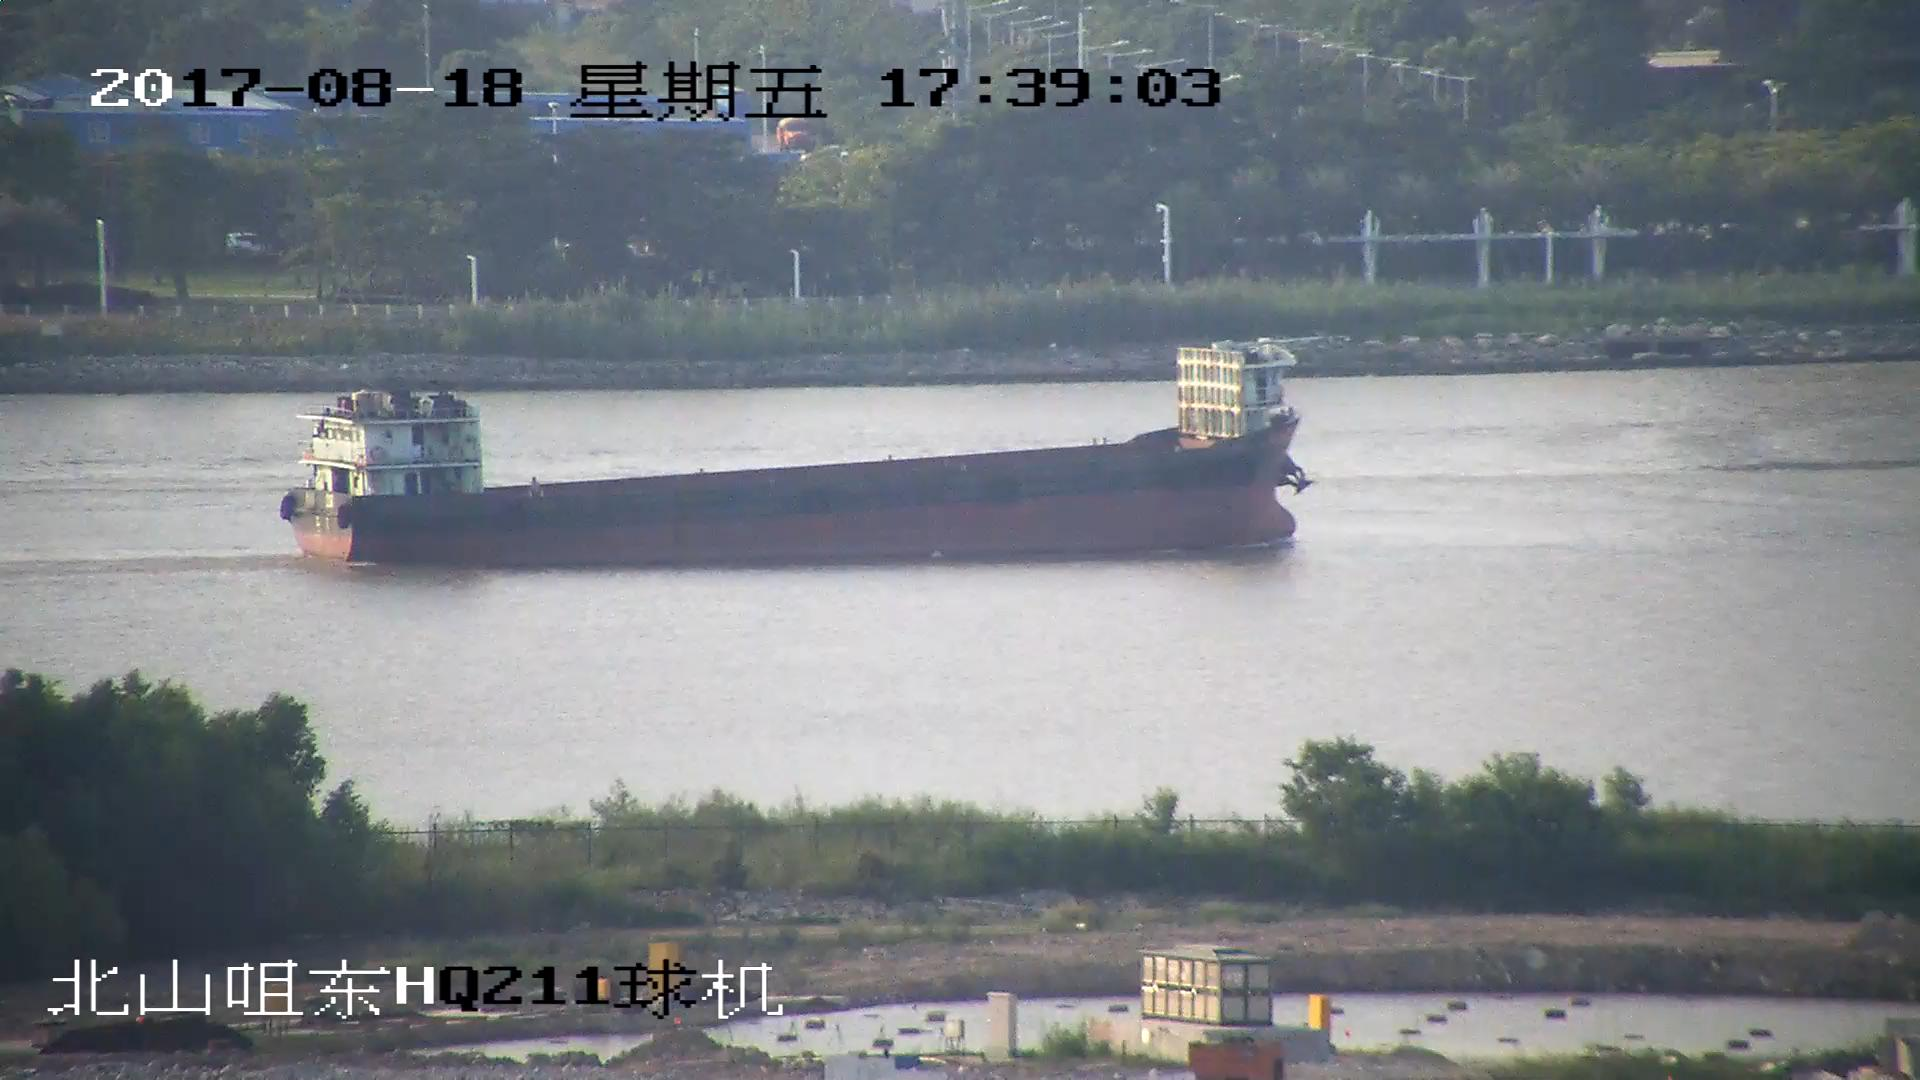general cargo ship: (285, 338, 1319, 564)
